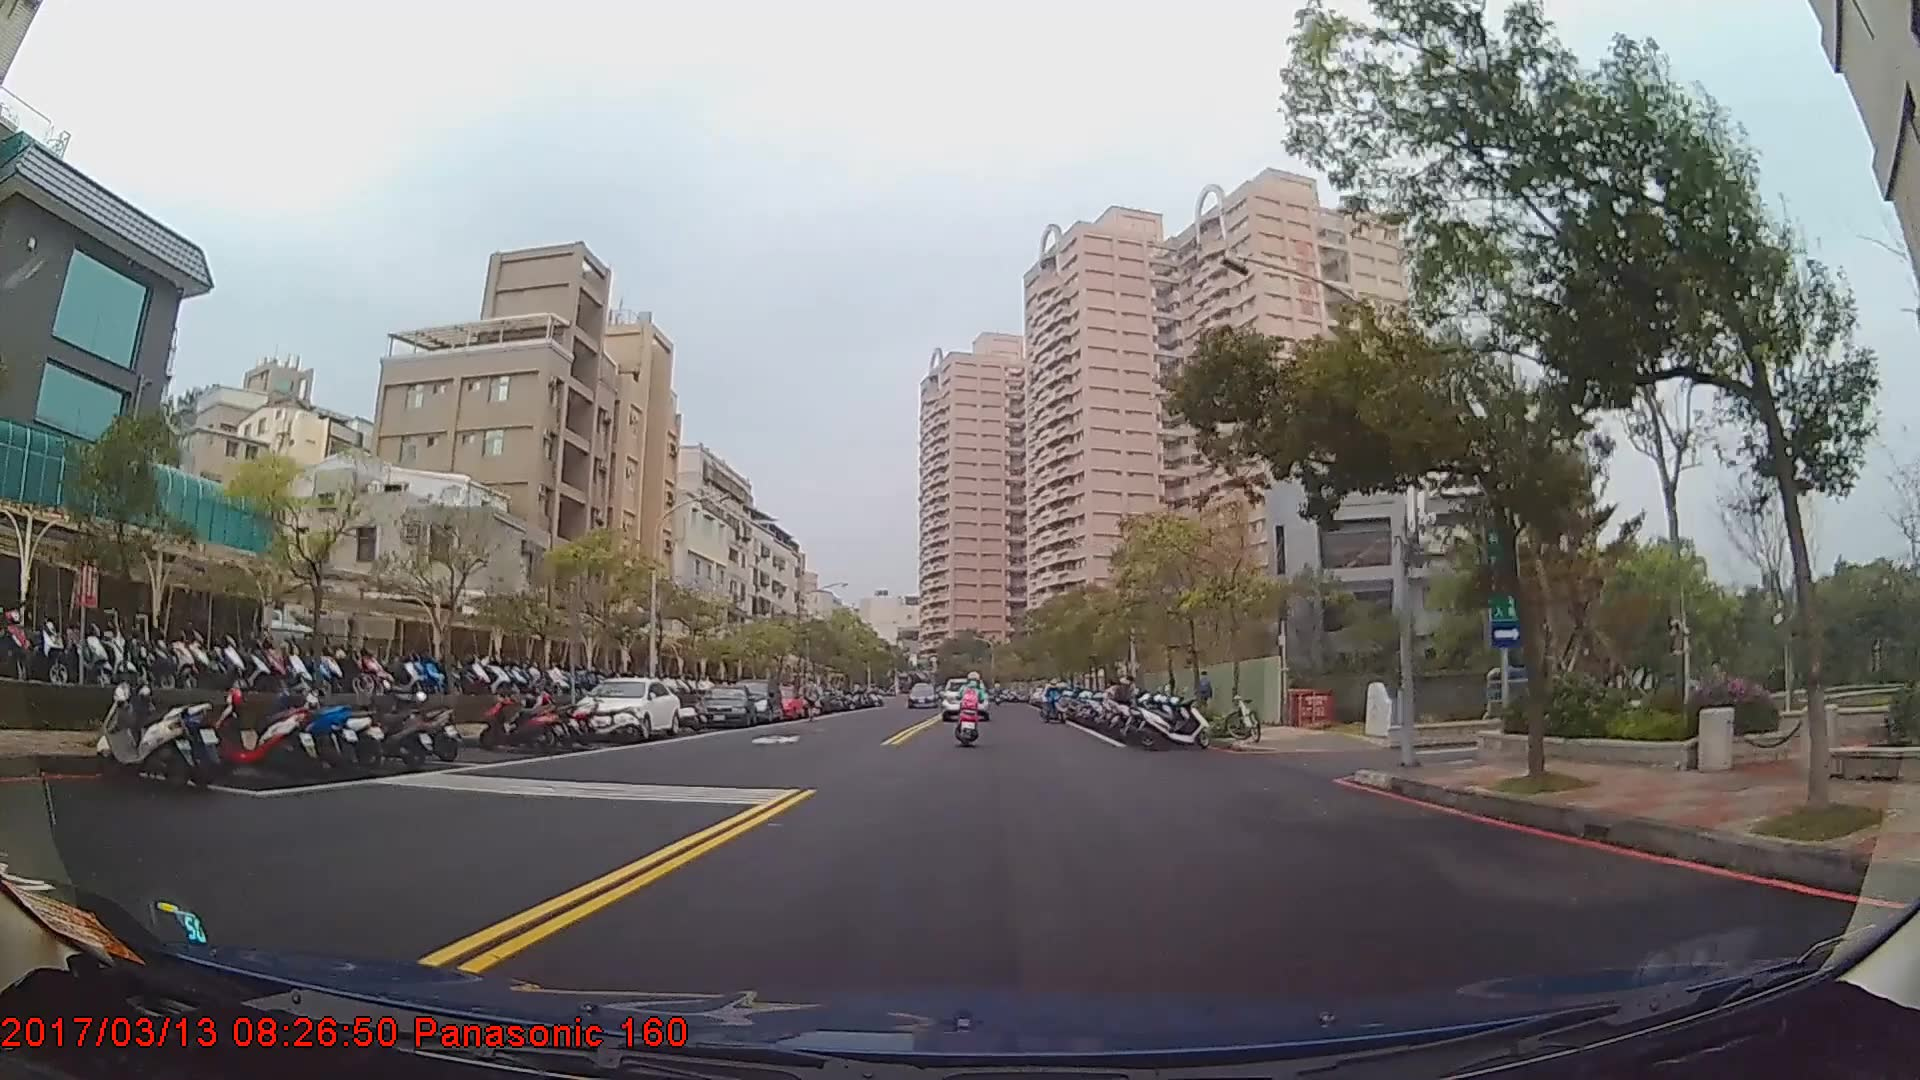pedestrian: (1194, 672, 1216, 727)
rider: (956, 678, 988, 750), (1043, 680, 1067, 722)
vehicle: (570, 679, 681, 743), (694, 686, 755, 730), (727, 676, 785, 723), (942, 678, 991, 724), (908, 683, 935, 708)
